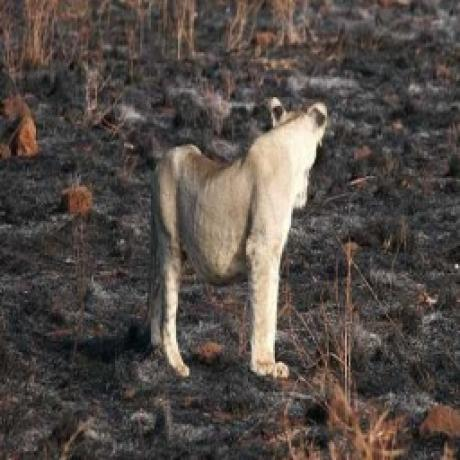Lion: (146, 96, 327, 378)
